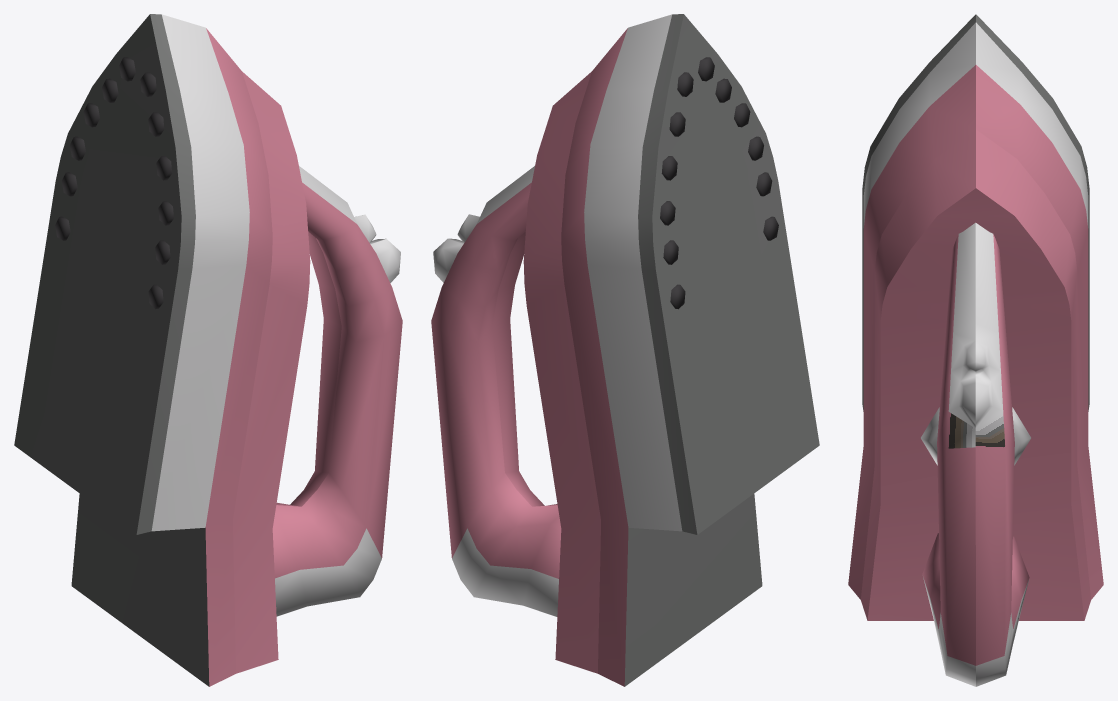
Rendered from SM_Iron_01.glb.
The picture shows the model from 3 angles, left to right: view 1: azimuth 30°, elevation 25°; view 2: azimuth 150°, elevation 25°; view 3: azimuth 270°, elevation 25°; orthographic projection. The views are drawn at different scales.
Visible parts, largest first — view 1: SM_Iron_01; view 2: SM_Iron_01; view 3: SM_Iron_01.
Boxes of the visible parts, <box> form: SM_Iron_01: <box>14,14,402,686</box>; SM_Iron_01: <box>431,14,819,686</box>; SM_Iron_01: <box>848,14,1103,686</box>.
Size of the model in its own units: 0.2375 by 0.4391 by 0.1741.
Materials: 1 (1 with a texture image).
